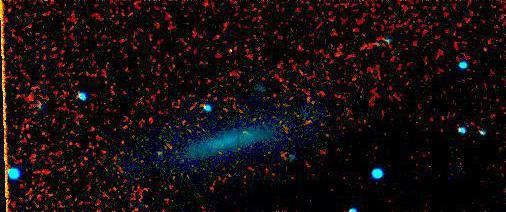star: (471, 32, 501, 62)
